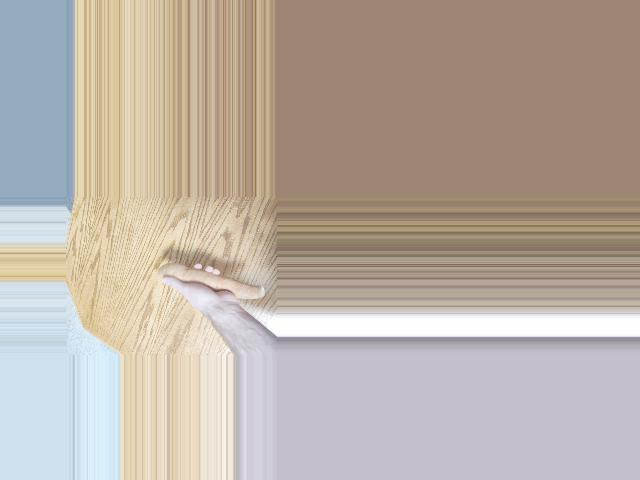sweet_potato: (159, 262, 265, 301)
